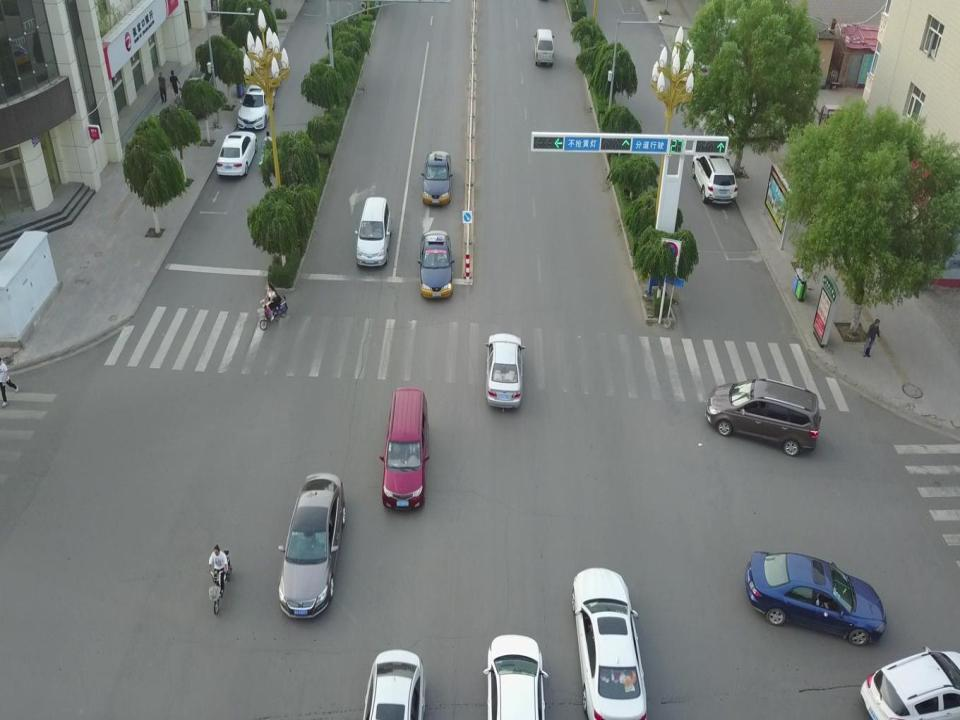car: (745, 550, 888, 646), (571, 566, 648, 720), (276, 473, 346, 622), (860, 644, 960, 720), (483, 633, 550, 720), (361, 649, 426, 720), (484, 332, 525, 411), (417, 229, 455, 298), (691, 150, 738, 204), (177, 62, 216, 119), (216, 130, 258, 177), (237, 82, 275, 129), (421, 151, 453, 206)
van: (704, 378, 820, 457), (380, 387, 429, 513), (354, 196, 392, 267), (533, 27, 555, 66)
